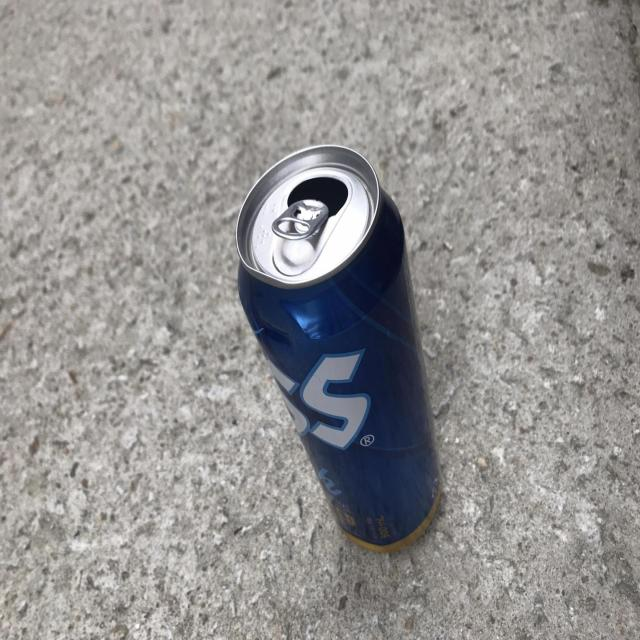can: (236, 144, 442, 553)
